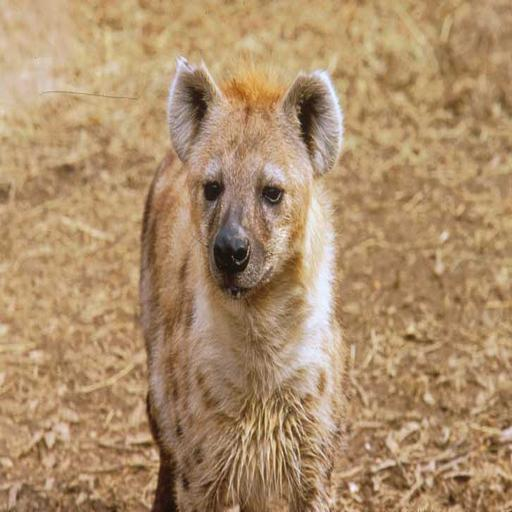Hyena: (125, 47, 360, 512)
